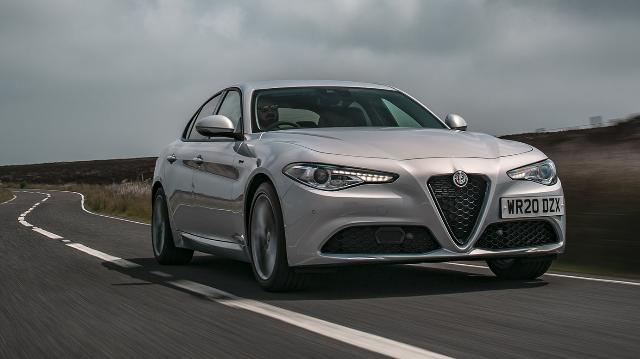alpha-romeo: (150, 80, 566, 294)
